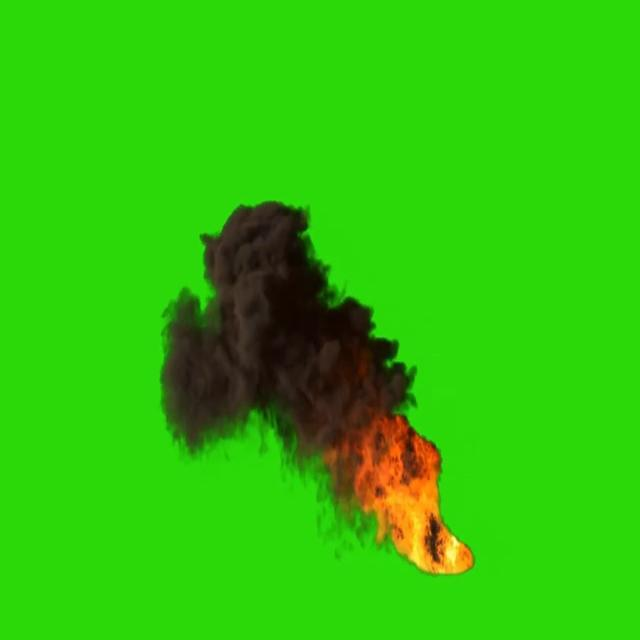Fire: (388, 466, 473, 570)
Smoke: (158, 196, 382, 470)
